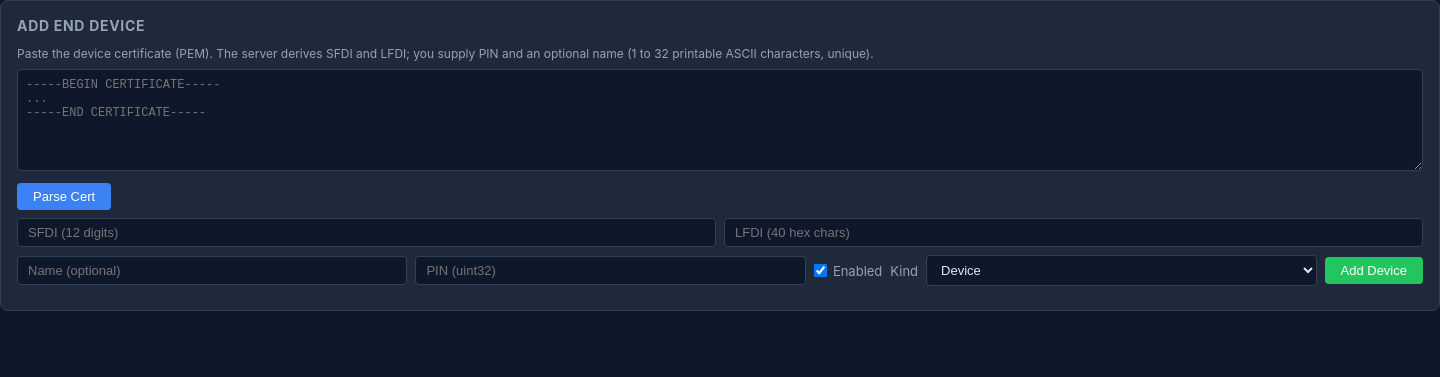
Test: AddDevice aggregator › offers neither an aggregator nor a device another manager holds
Select "Aggregator" in the dropdown with id "addDevKind": {"x": 1121, "y": 270} [926,255,1316,286]
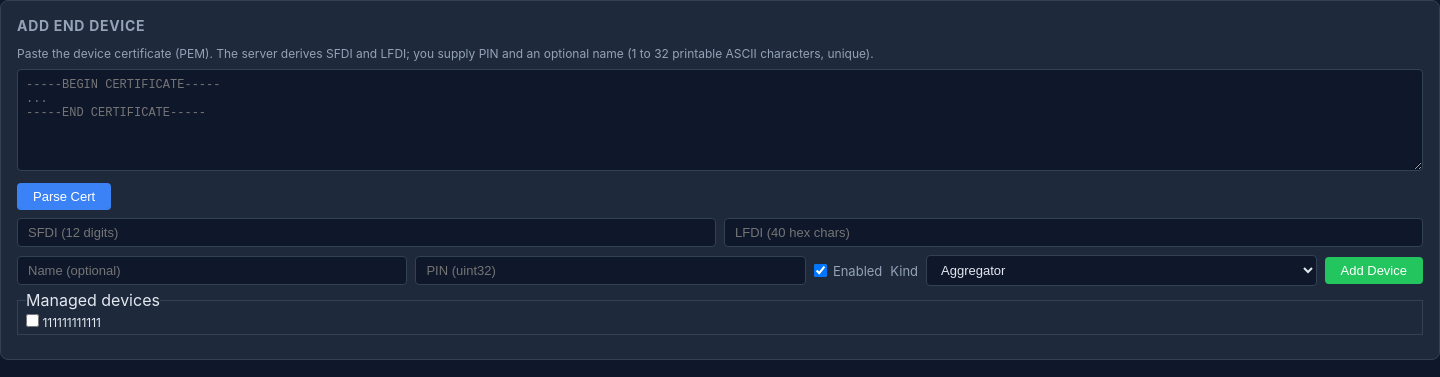
Result: the checkbox with test id "device-picker-option" is shown at [26,314,39,327]
